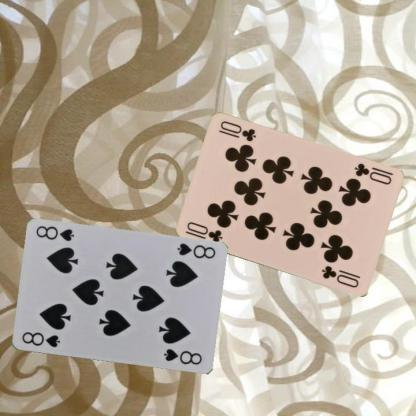10c: (350, 160, 392, 186), (184, 219, 224, 244)
8s: (174, 240, 216, 262), (19, 329, 61, 349)
